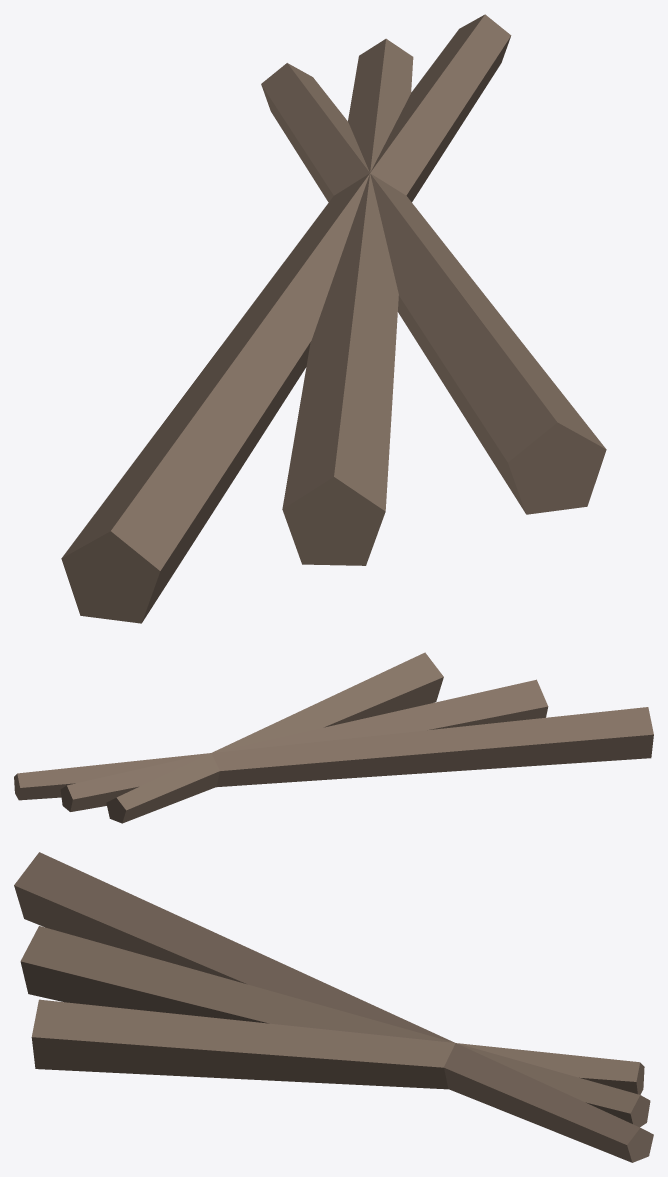
Rendered from enfeite_raiz_chao.glb.
The picture shows the model from 3 angles, top to bottom: view 1: azimuth 30°, elevation 25°; view 2: azimuth 150°, elevation 25°; view 3: azimuth 270°, elevation 25°; orthographic projection. The views are drawn at different scales.
Parts seen in each view (by area): view 1: pedreira_enfeite_raiz_chao; view 2: pedreira_enfeite_raiz_chao; view 3: pedreira_enfeite_raiz_chao.
Boxes of the visible parts, box(x1,y1,x2,y2) form: pedreira_enfeite_raiz_chao: box(61, 14, 606, 623); pedreira_enfeite_raiz_chao: box(14, 652, 653, 823); pedreira_enfeite_raiz_chao: box(14, 852, 653, 1162).
Bounding box in the file's own units: 0.3489 × 0.0344 × 0.3301.
